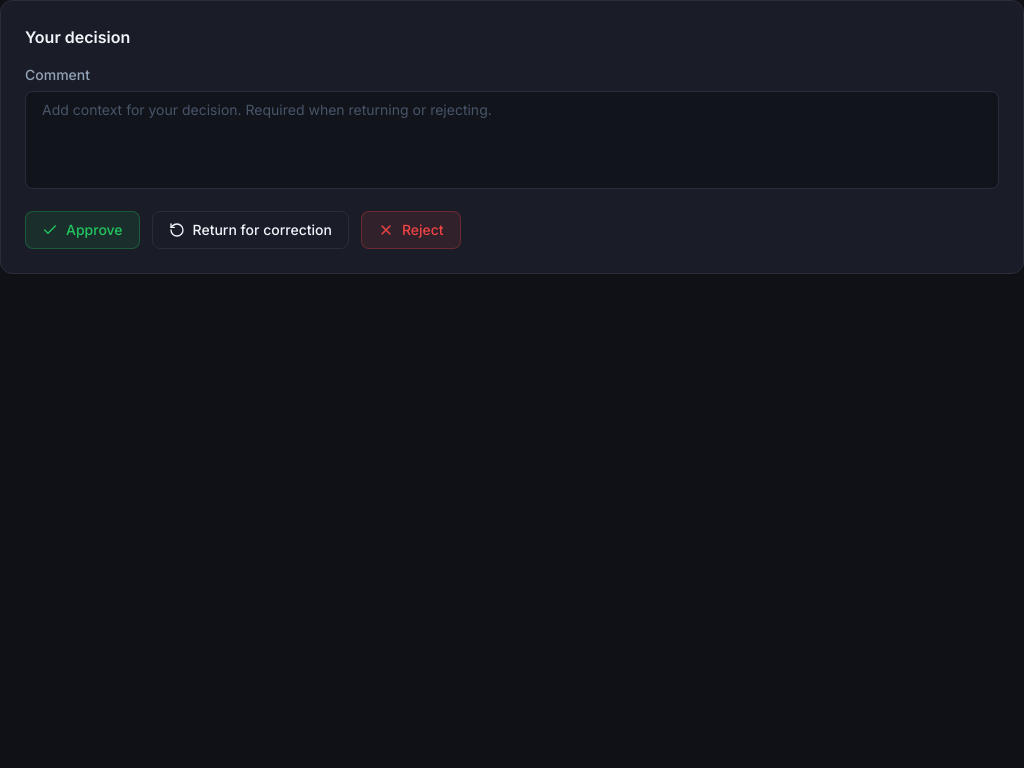
it: DecisionPanel › surfaces the backend reason when a transition is refused
What coordinates should you click on to do the following:
click the button "Approve"
I would click on:
 (82, 230)
Its box is [25,211,140,249].
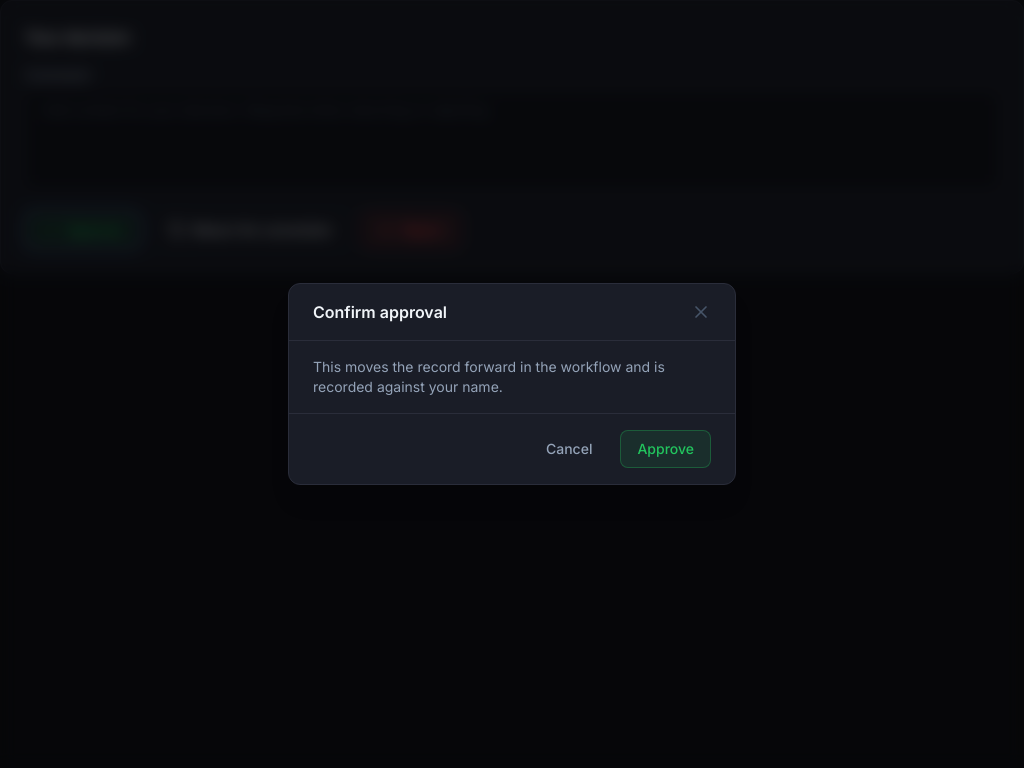
What coordinates should you click on to do the following:
click the button "Approve"
I would click on:
 (666, 449)
Its box is [620,430,711,468].
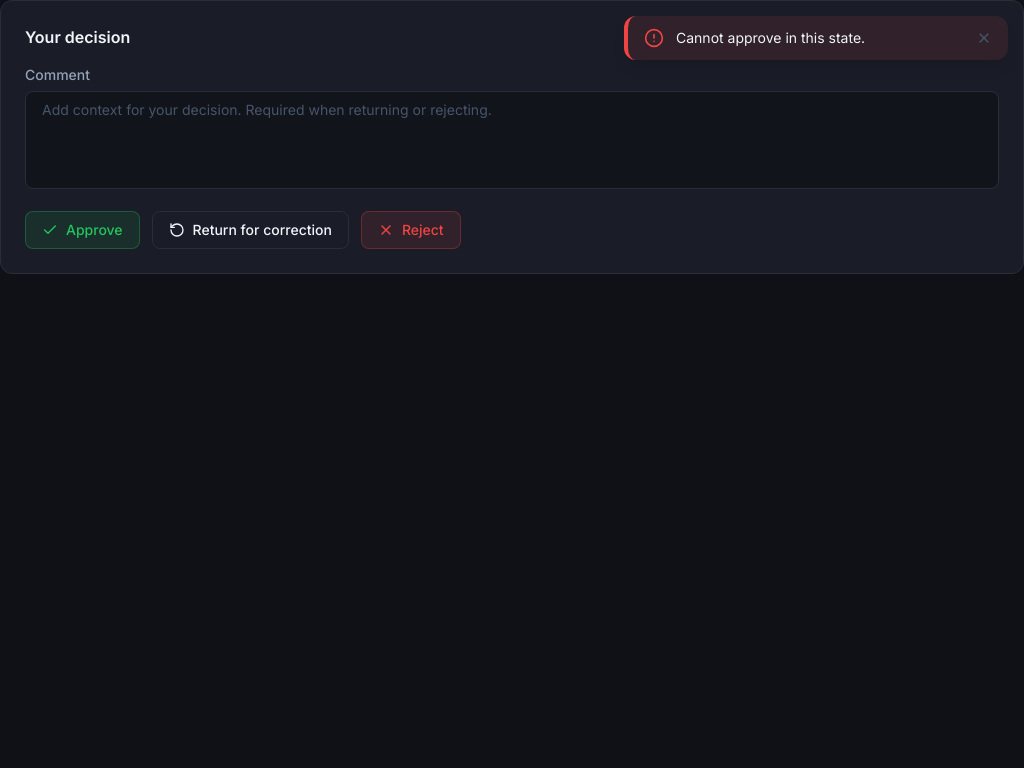
Now the text "Cannot approve in this state." is shown, box [676,29,865,46]
